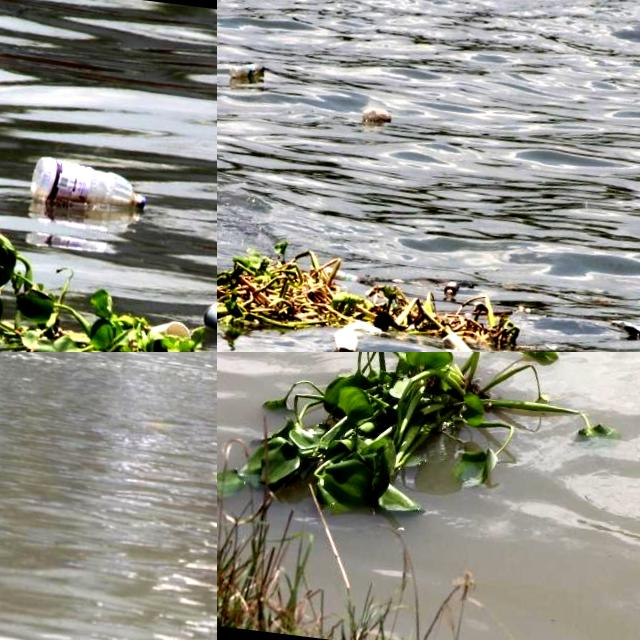plastic bottle: (31, 154, 148, 207), (230, 60, 267, 79), (360, 105, 394, 124)
water-hyacinth: (239, 353, 601, 535), (218, 240, 528, 353), (1, 217, 218, 353)
